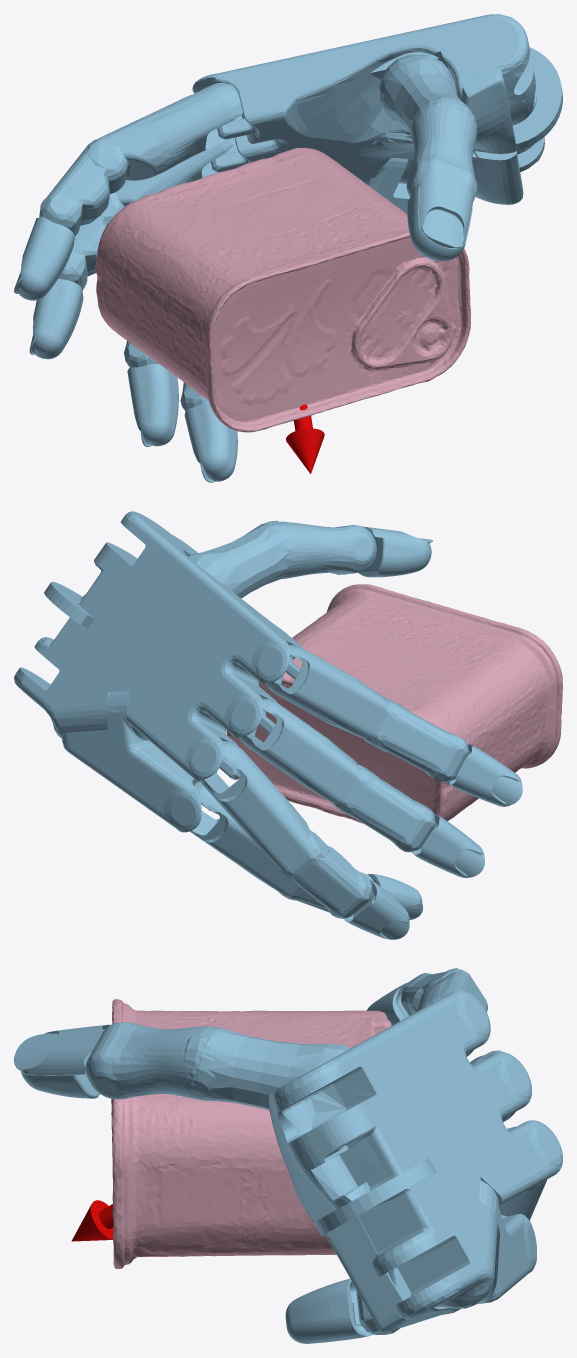
The picture shows the model from 3 angles, top to bottom: view 1: azimuth 30°, elevation 25°; view 2: azimuth 150°, elevation 25°; view 3: azimuth 270°, elevation 25°; orthographic projection. The views are drawn at different scales.
Visible parts, largest first — view 1: world, potted_meat_can.stl; view 2: world, potted_meat_can.stl; view 3: world, potted_meat_can.stl.
Boxes of the visible parts, box(x1,y1,x2,y2) form: world: box(14, 14, 562, 482); potted_meat_can.stl: box(95, 147, 470, 432); world: box(14, 511, 522, 939); potted_meat_can.stl: box(226, 584, 562, 823); world: box(14, 968, 562, 1343); potted_meat_can.stl: box(111, 999, 391, 1269).
Size of the model in its own units: 0.2108 by 0.1435 by 0.1624.
